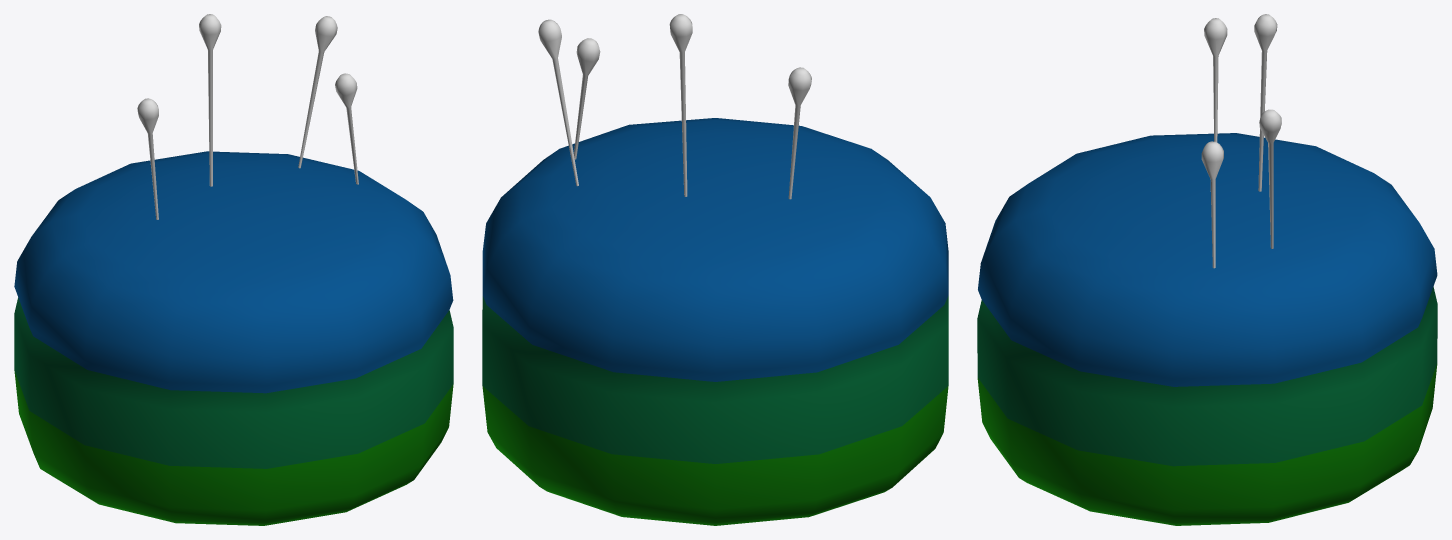
Rendered from FP_Model_PinCushion01_AlysunH.fbx.
3 renders of one model, left to right at view 1: azimuth 30°, elevation 25°; view 2: azimuth 150°, elevation 25°; view 3: azimuth 270°, elevation 25°, orthographic. The views are drawn at different scales.
Parts seen in each view (by area): view 1: Bigcurshion; view 2: Bigcurshion; view 3: Bigcurshion.
Boxes of the visible parts, x1,y1,x2,y2 form: Bigcurshion: (14,14,453,525); Bigcurshion: (482,14,948,525); Bigcurshion: (977,14,1437,525).
Size of the model in its own units: 6.03 by 6.25 by 6.08.
